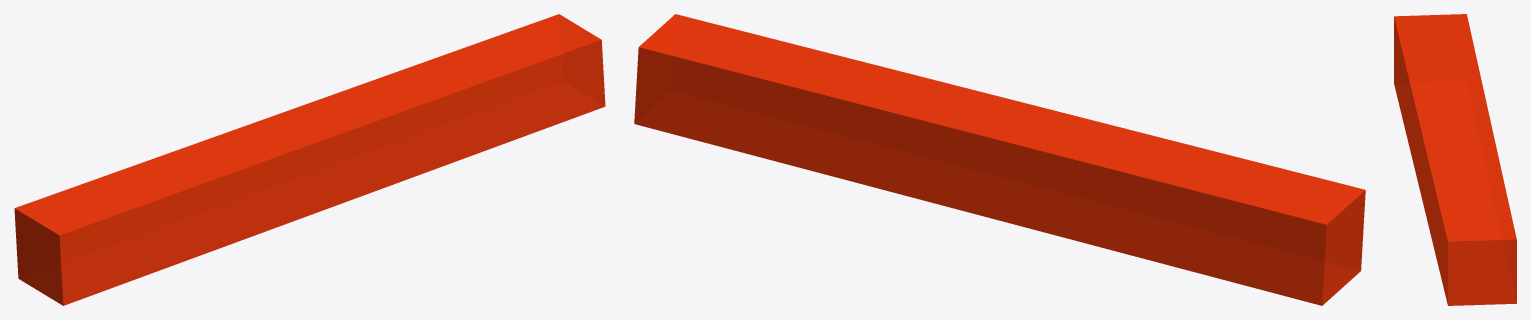
Rendered from Event_421364160_EErechit_23.fbx.
3 renders of one model, left to right at view 1: azimuth 30°, elevation 25°; view 2: azimuth 150°, elevation 25°; view 3: azimuth 270°, elevation 25°, orthographic. The views are drawn at different scales.
Parts seen in each view (by area): view 1: Model; view 2: Model; view 3: Model.
Boxes of the visible parts, x1,y1,x2,y2 form: Model: (14,14,605,305); Model: (634,14,1365,305); Model: (1394,14,1516,305).
Bounding box in the file's own units: 0.6498 × 0.114 × 0.1289.
